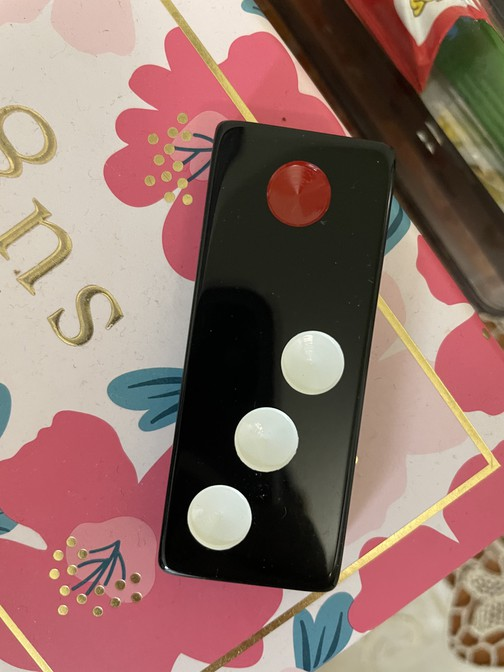goose: (157, 120, 396, 593)
